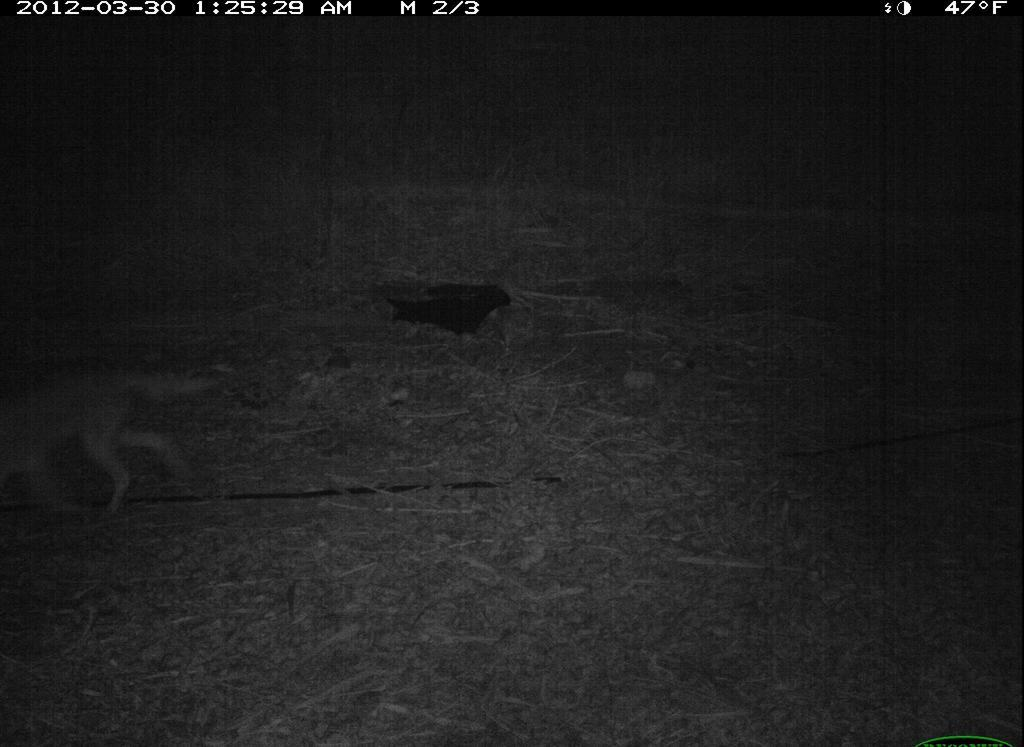coyote: (1, 358, 235, 523)
